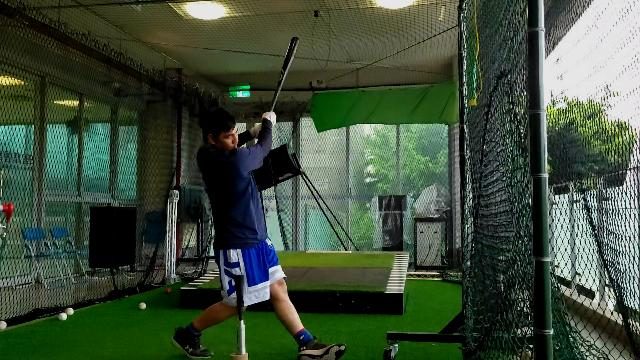baseball bat: (268, 34, 302, 114)
